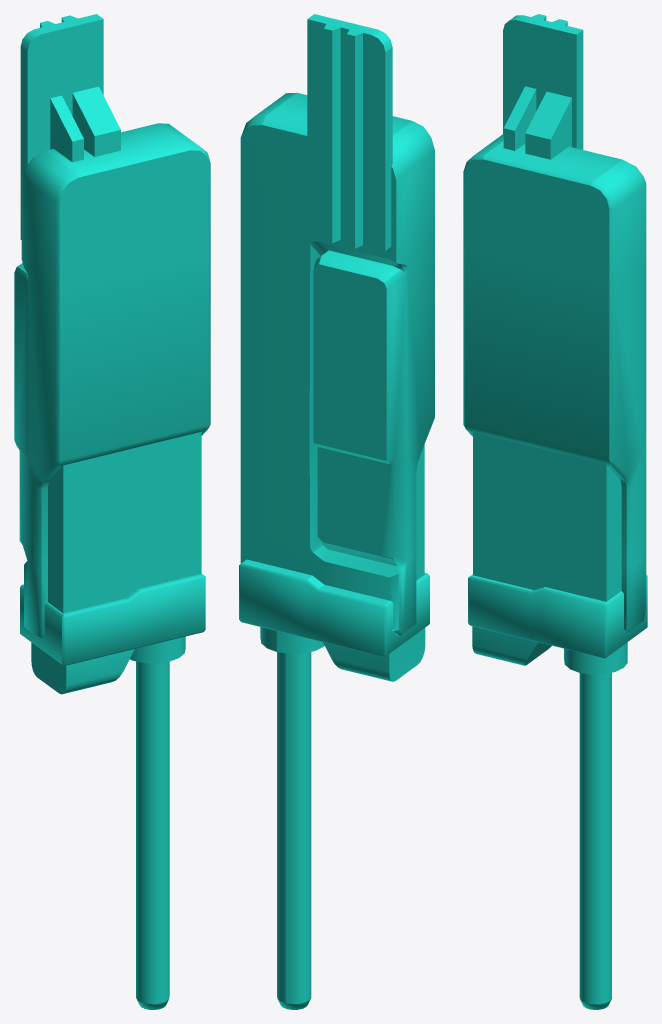
The model's file is Cable_Antenna3.fbx.
The picture shows the model from 3 angles, left to right: view 1: azimuth 30°, elevation 25°; view 2: azimuth 150°, elevation 25°; view 3: azimuth 330°, elevation 25°; orthographic projection. The views are drawn at different scales.
Parts seen in each view (by area): view 1: Cable_Antenna3; view 2: Cable_Antenna3; view 3: Cable_Antenna3.
Boxes of the visible parts, box(x1,y1,x2,y2) form: Cable_Antenna3: box(14, 14, 210, 1009); Cable_Antenna3: box(239, 14, 434, 1009); Cable_Antenna3: box(463, 14, 647, 1009).
Size of the model in its own units: 100 by 605 by 54.24.
